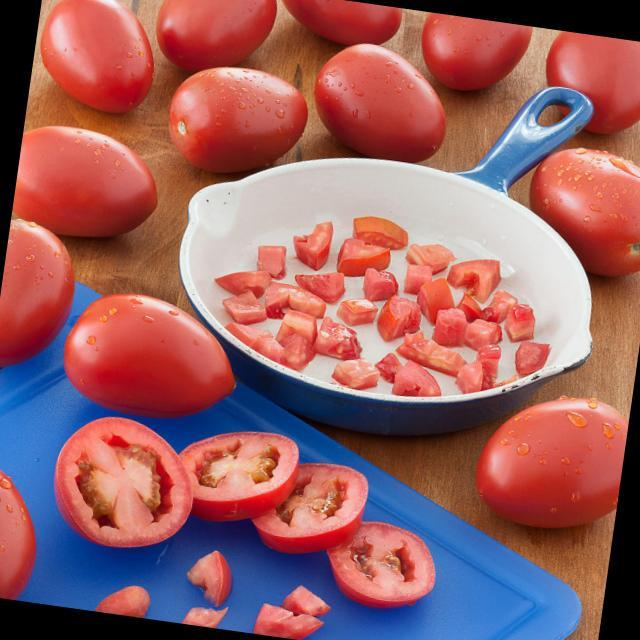TOMATO: (56, 287, 250, 429), (474, 386, 631, 538), (8, 117, 159, 262), (51, 414, 194, 552), (304, 35, 463, 159), (160, 50, 314, 178), (33, 0, 166, 124), (0, 202, 87, 384), (521, 138, 640, 257), (251, 448, 366, 562), (338, 505, 444, 618), (539, 29, 640, 142), (182, 429, 288, 531), (151, 0, 288, 77), (415, 12, 532, 96), (275, 0, 410, 52), (0, 452, 48, 598)
